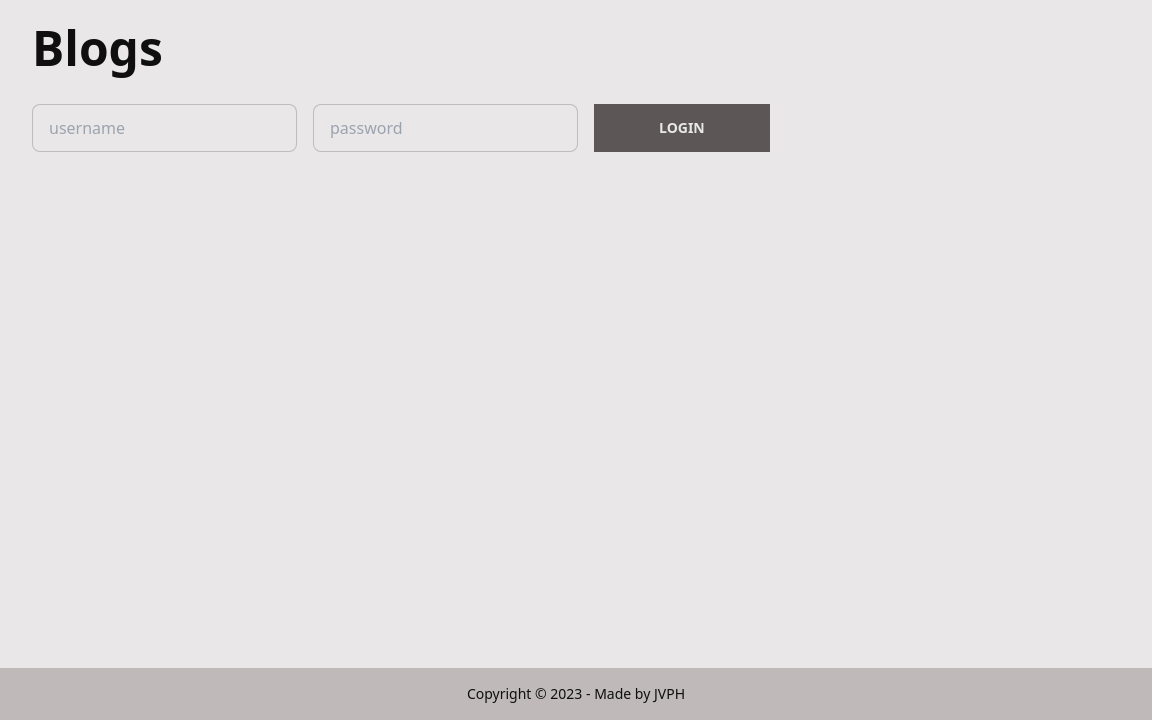
Test: BlogList app › Login › fails with wrong credentials
Step 1. Type "JohnDoe2000" into the field with test id "username" → {"x": 165, "y": 128}, box [32,104,297,152]
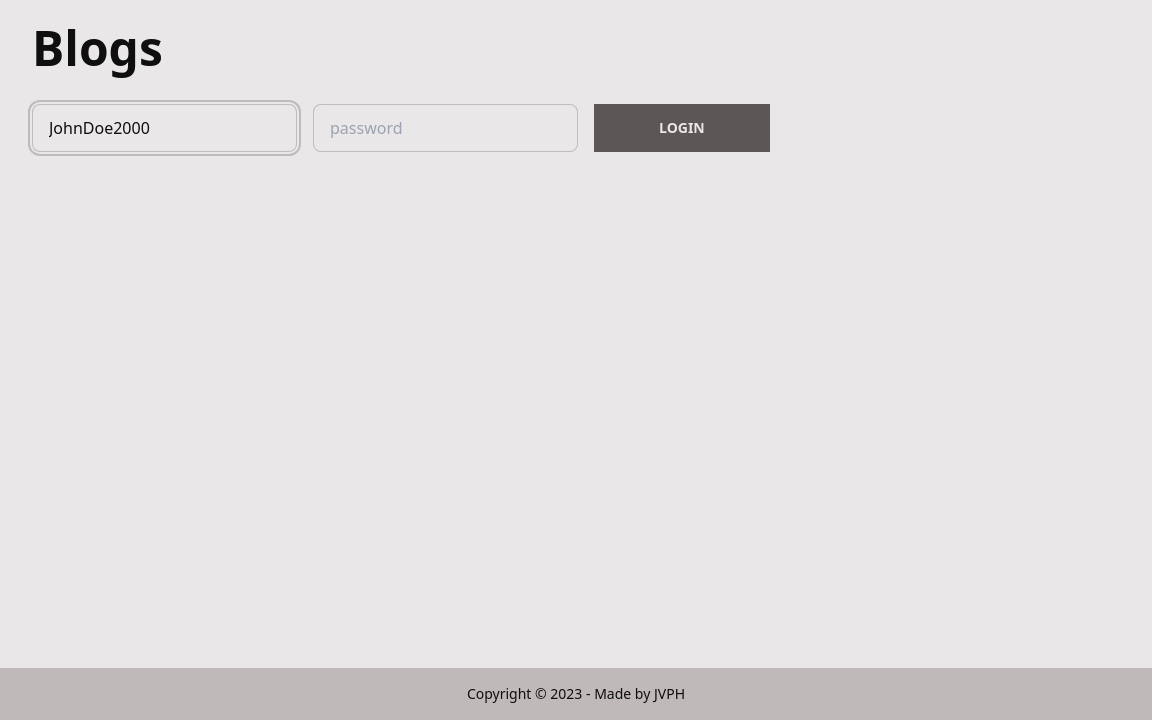
Step 2. Type "wrong" into the password field with test id "password" → {"x": 446, "y": 128}, box [313,104,578,152]
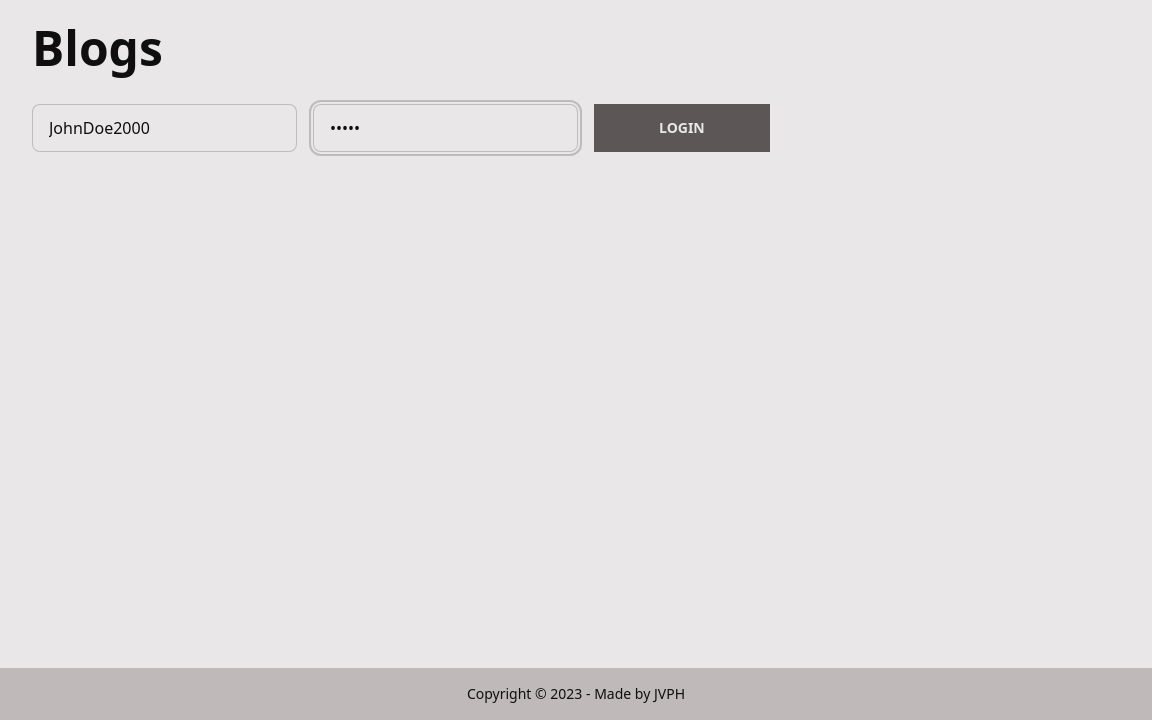
Step 3. Click the button with test id "login-btn" → {"x": 682, "y": 128}, box [594,104,770,152]
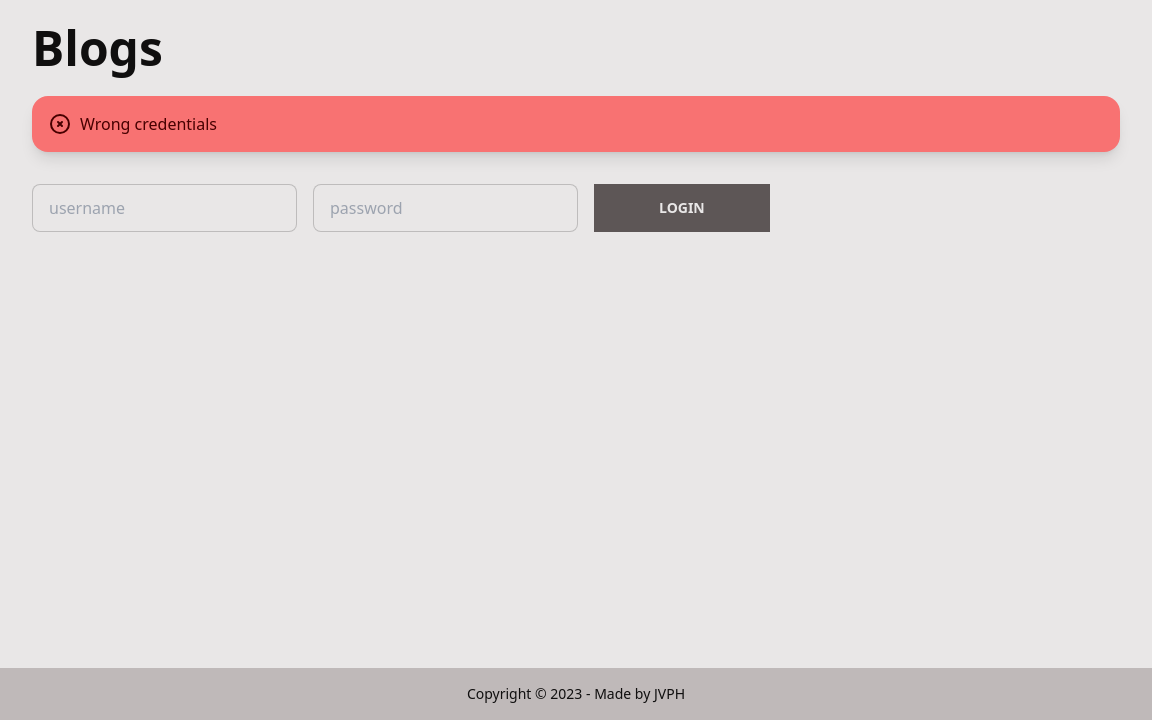
Expected: the text with class "alert-error" reads "Wrong credentials", [80,113,217,135]
